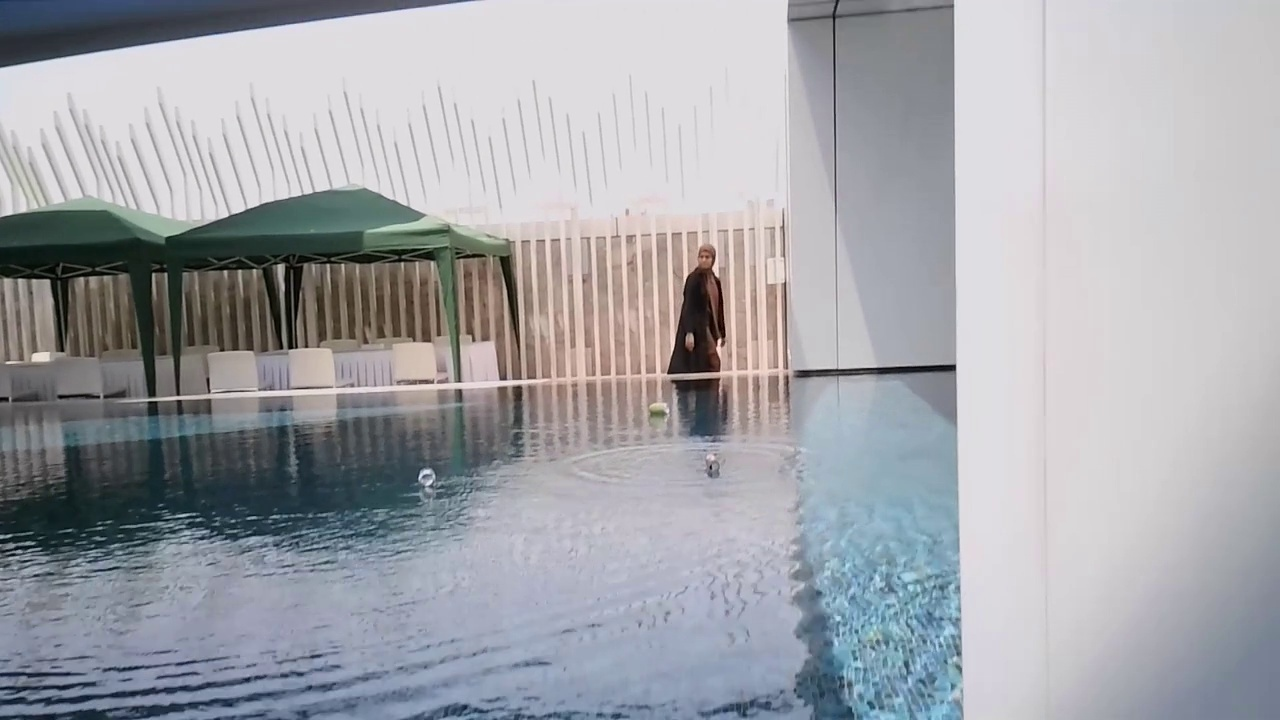debris: (701, 448, 722, 478), (414, 466, 438, 488), (648, 399, 672, 417)
